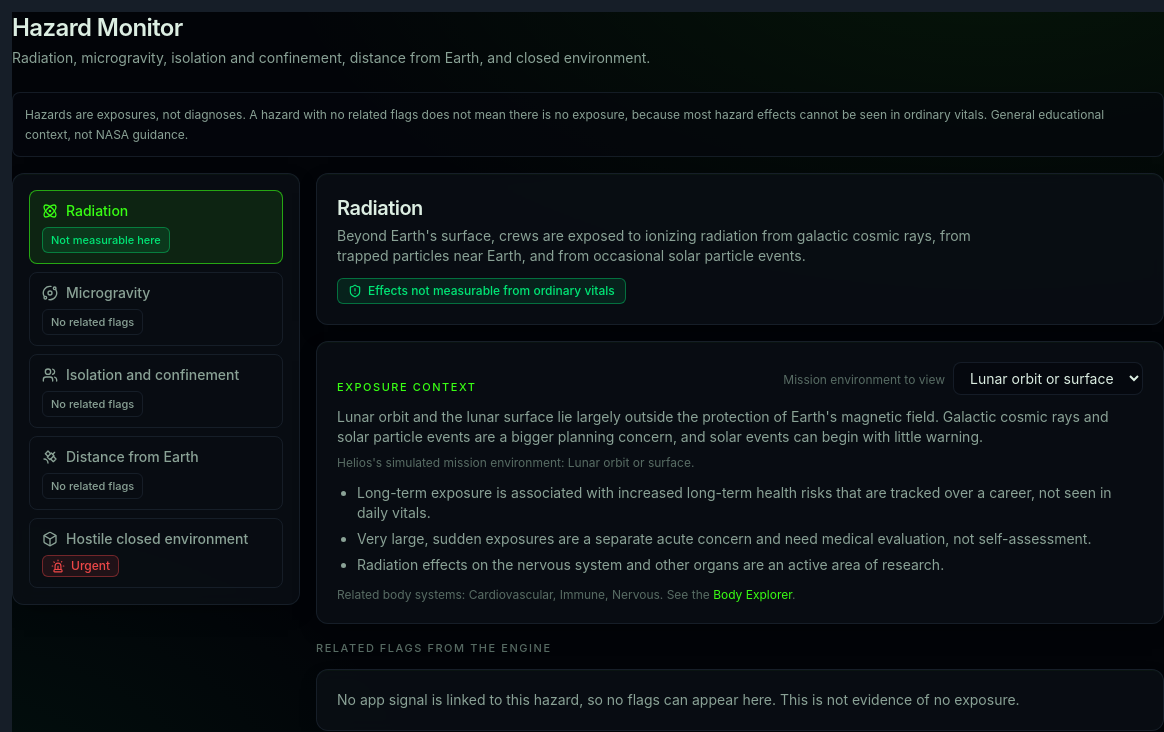
Scenario: Hazard Monitor › shows an SpO2 flag under the closed environment but not under radiation
Check: the heading "Blood oxygen (SpO2) outside general reference range" is not shown
Click the button "Hostile closed environment Urgent" at (156, 553), box [29,518,283,588]
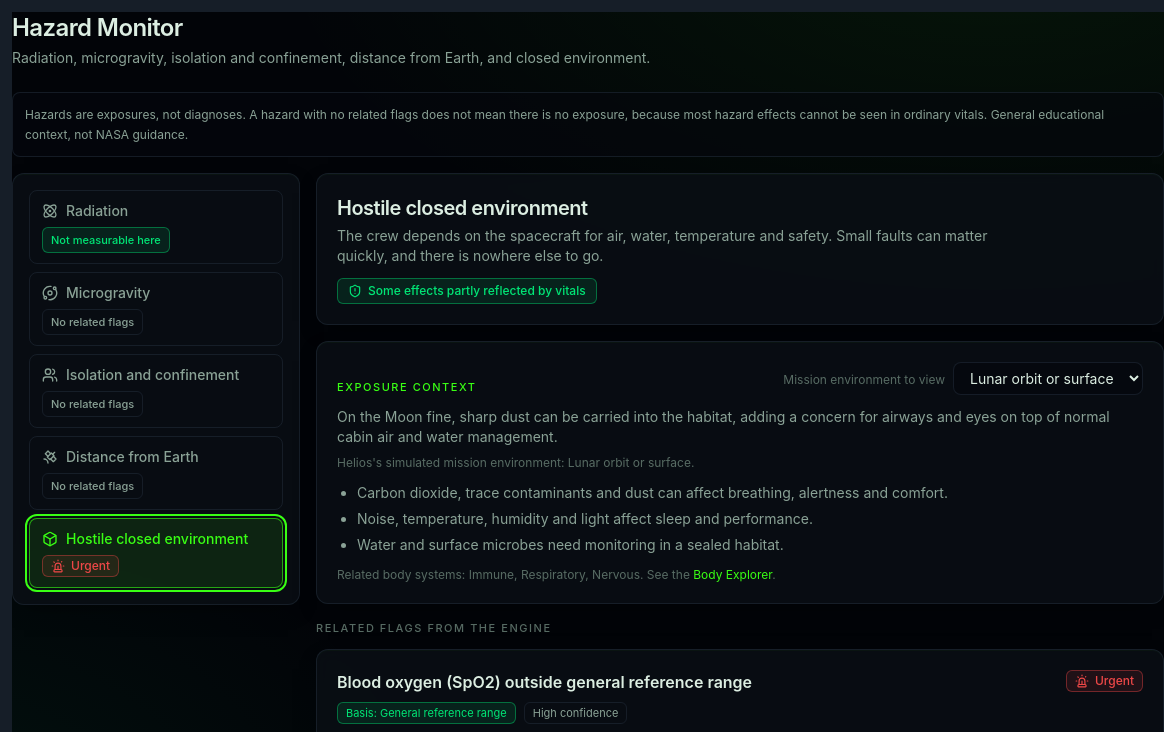
Check: the heading "Blood oxygen (SpO2) outside general reference range" is shown, box [337,670,752,694]
Click the button "Radiation Not measurable here" at (156, 227), box [29,190,283,264]
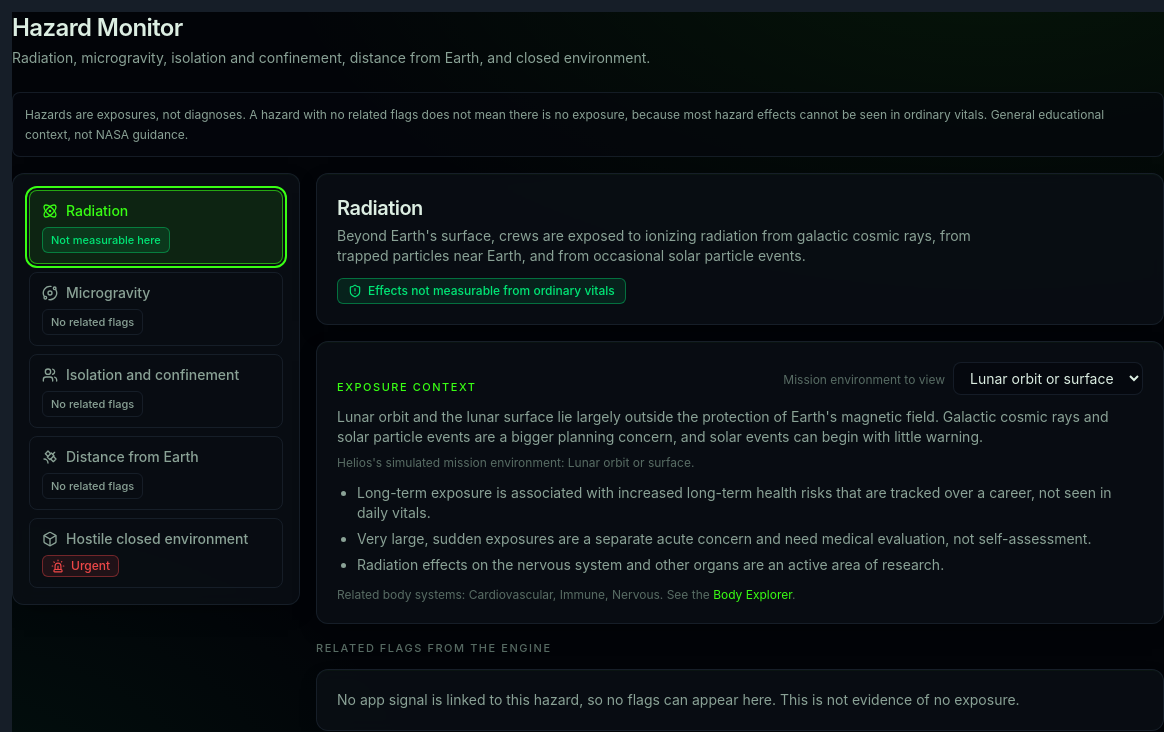
Check: the heading "Blood oxygen (SpO2) outside general reference range" is gone
